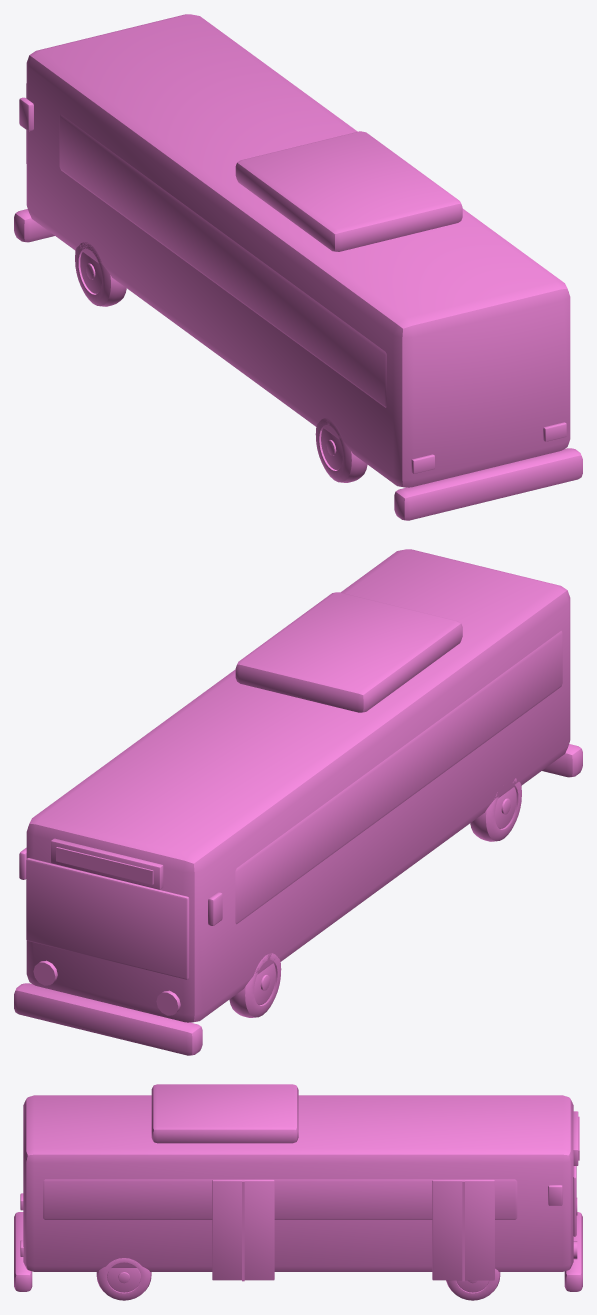
The model's file is Traffic_Bus.fbx.
The picture shows the model from 3 angles, top to bottom: view 1: azimuth 30°, elevation 25°; view 2: azimuth 150°, elevation 25°; view 3: azimuth 270°, elevation 25°; orthographic projection. The views are drawn at different scales.
Visible parts, largest first — view 1: Paint, Body; view 2: Paint, Body; view 3: Paint, Body.
Boxes of the visible parts, box(x1,y1,x2,y2) form: Paint: box(26, 14, 570, 487); Body: box(14, 83, 582, 520); Paint: box(26, 549, 570, 1022); Body: box(14, 592, 582, 1055); Paint: box(23, 1095, 573, 1271); Body: box(14, 1084, 582, 1300).
Size of the model in its own units: 8.9 by 10 by 31.
1 material, 1 textured.
